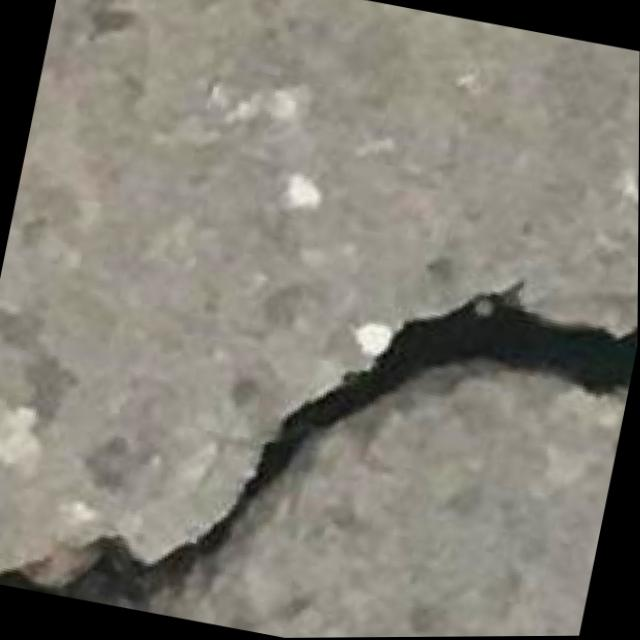Crack: (0, 182, 639, 640)
